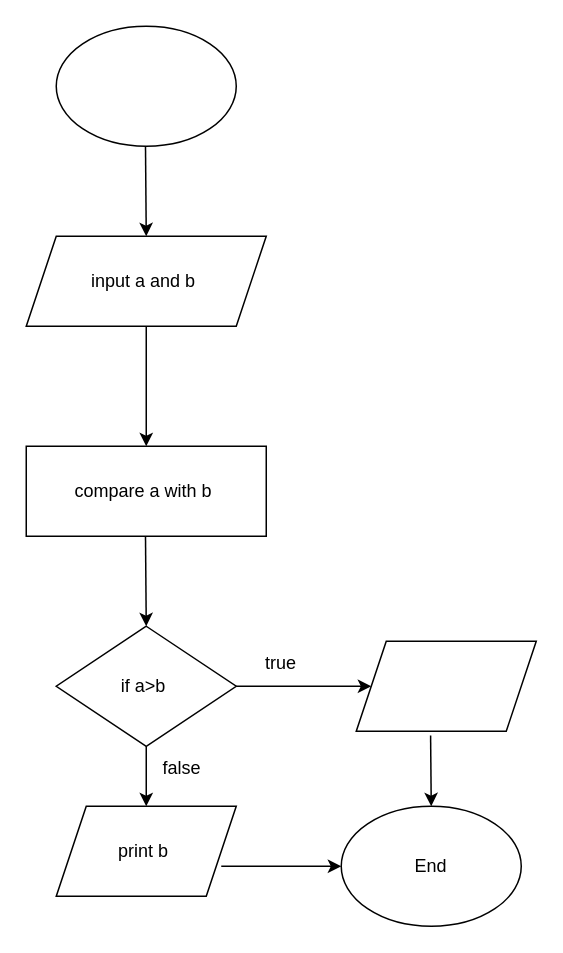
The diagram is 563 pixels wide and 953 high, and some of its shapes have lost their labels. Here are the shapes that lost their labels. From the top down, the centre of each, then its label:
At (x=145, y=85): "START".
At (x=445, y=685): "print a".
